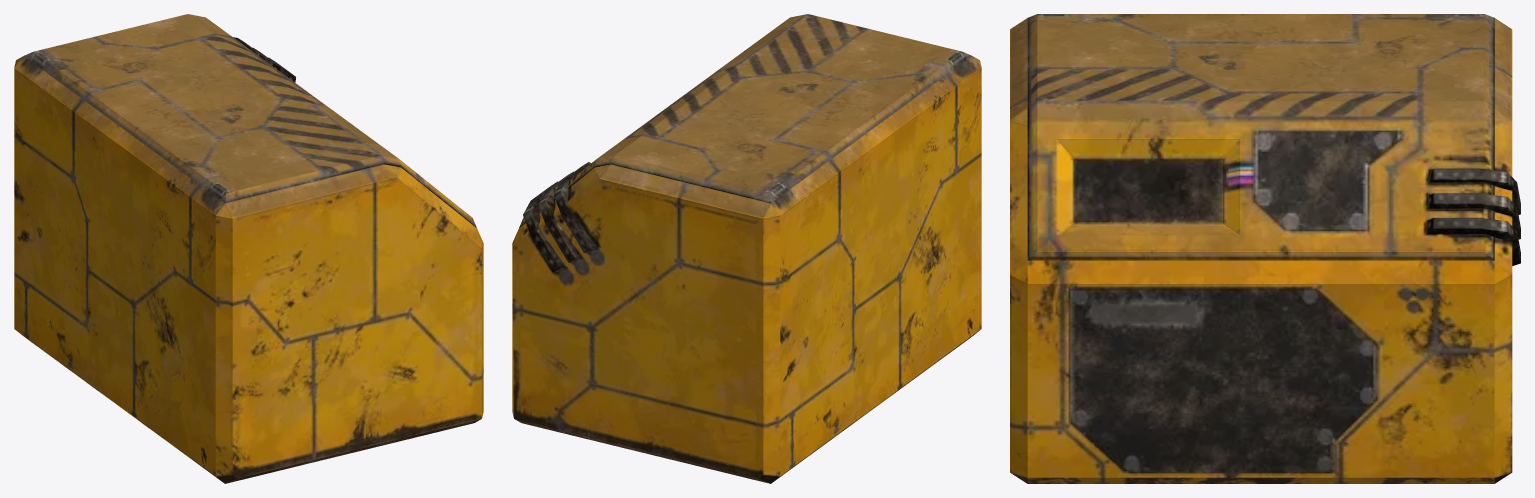
The model's file is env-crate-yellow.glb.
3 renders of one model, left to right at view 1: azimuth 30°, elevation 25°; view 2: azimuth 150°, elevation 25°; view 3: azimuth 270°, elevation 25°, orthographic. The views are drawn at different scales.
Parts seen in each view (by area): view 1: Kiste_Mat_0; view 2: Kiste_Mat_0; view 3: Kiste_Mat_0.
Boxes of the visible parts, box(x1,y1,x2,y2) form: Kiste_Mat_0: box(14, 14, 483, 483); Kiste_Mat_0: box(512, 14, 981, 483); Kiste_Mat_0: box(1010, 14, 1520, 483).
Bounding box in the file's own units: 1.33 × 1.36 × 1.9.
Materials: 1 (1 with a texture image).
